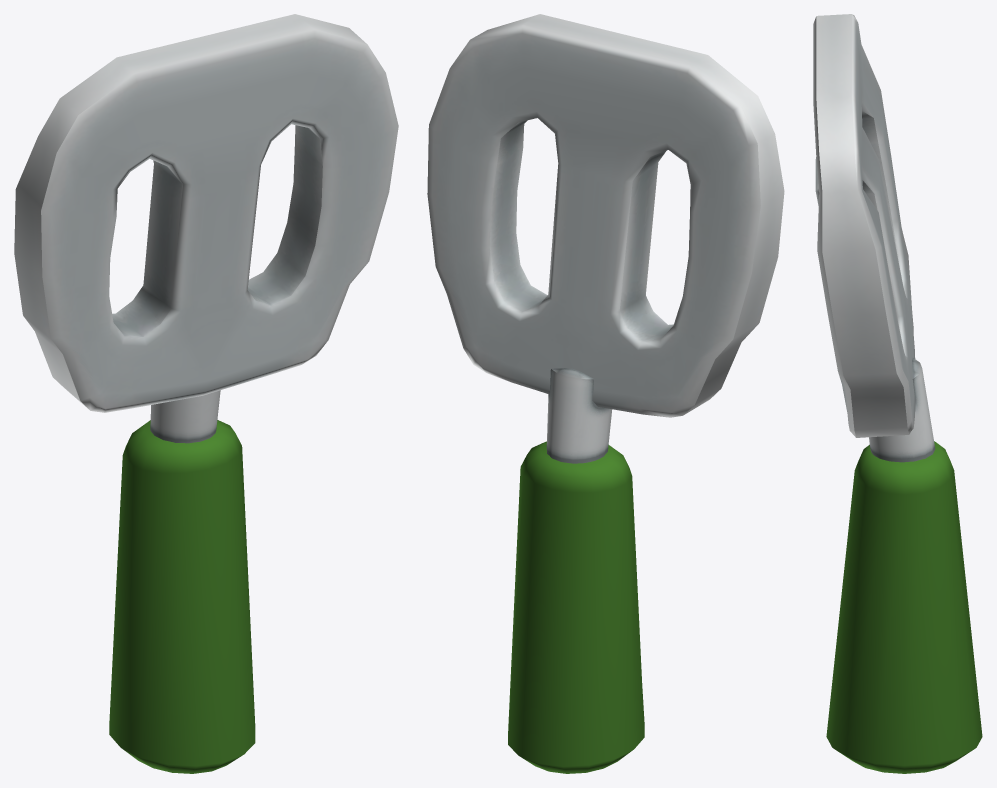
File: spatula.fbx
3 renders of one model, left to right at view 1: azimuth 30°, elevation 25°; view 2: azimuth 150°, elevation 25°; view 3: azimuth 270°, elevation 25°, orthographic. The views are drawn at different scales.
Visible parts, largest first — view 1: spatula; view 2: spatula; view 3: spatula.
Boxes of the visible parts, x1,y1,x2,y2 form: spatula: (14, 14, 398, 773); spatula: (427, 14, 784, 773); spatula: (813, 14, 982, 773).
Bounding box in the file's own units: 52.47 × 104 × 22.88.
